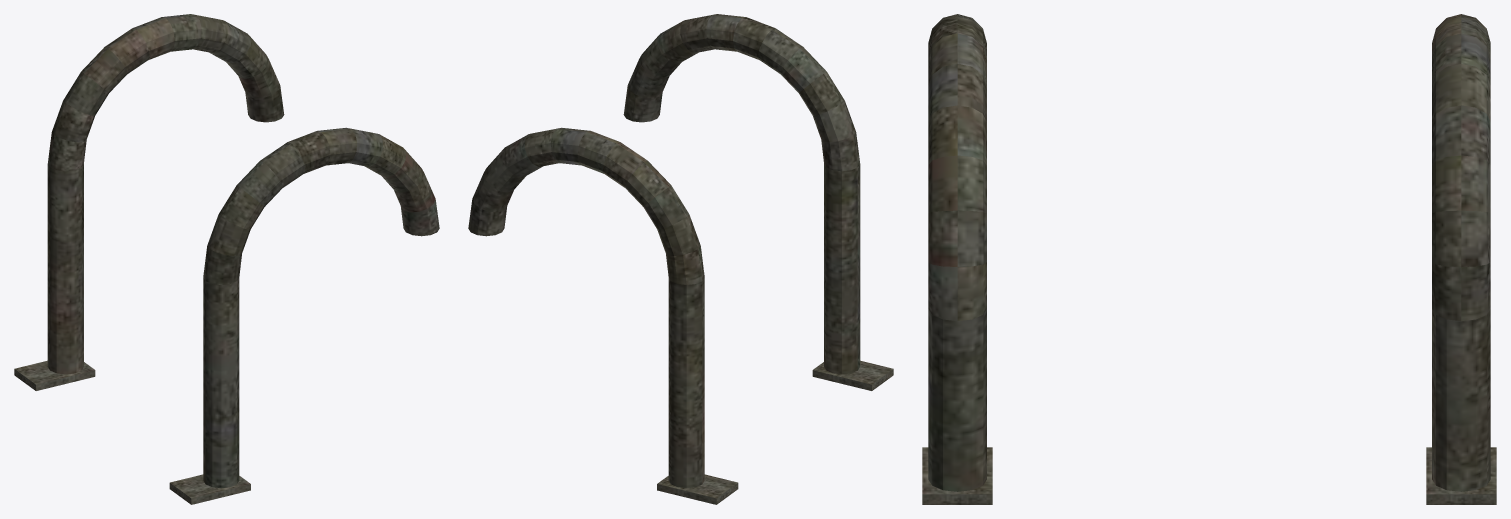
File: metalladder002b.glb
3 renders of one model, left to right at view 1: azimuth 30°, elevation 25°; view 2: azimuth 150°, elevation 25°; view 3: azimuth 270°, elevation 25°, orthographic. The views are drawn at different scales.
Parts seen in each view (by area): view 1: 0_Metalladder002; view 2: 0_Metalladder002; view 3: 0_Metalladder002.
Part boxes in pixels (x1,y1,x2,y2): 0_Metalladder002: [14, 14, 439, 504]; 0_Metalladder002: [468, 14, 893, 504]; 0_Metalladder002: [922, 14, 1496, 504].
Bounding box in the file's own units: 0.5207 × 0.641 × 0.6223.
Materials: 1 (1 with a texture image).
